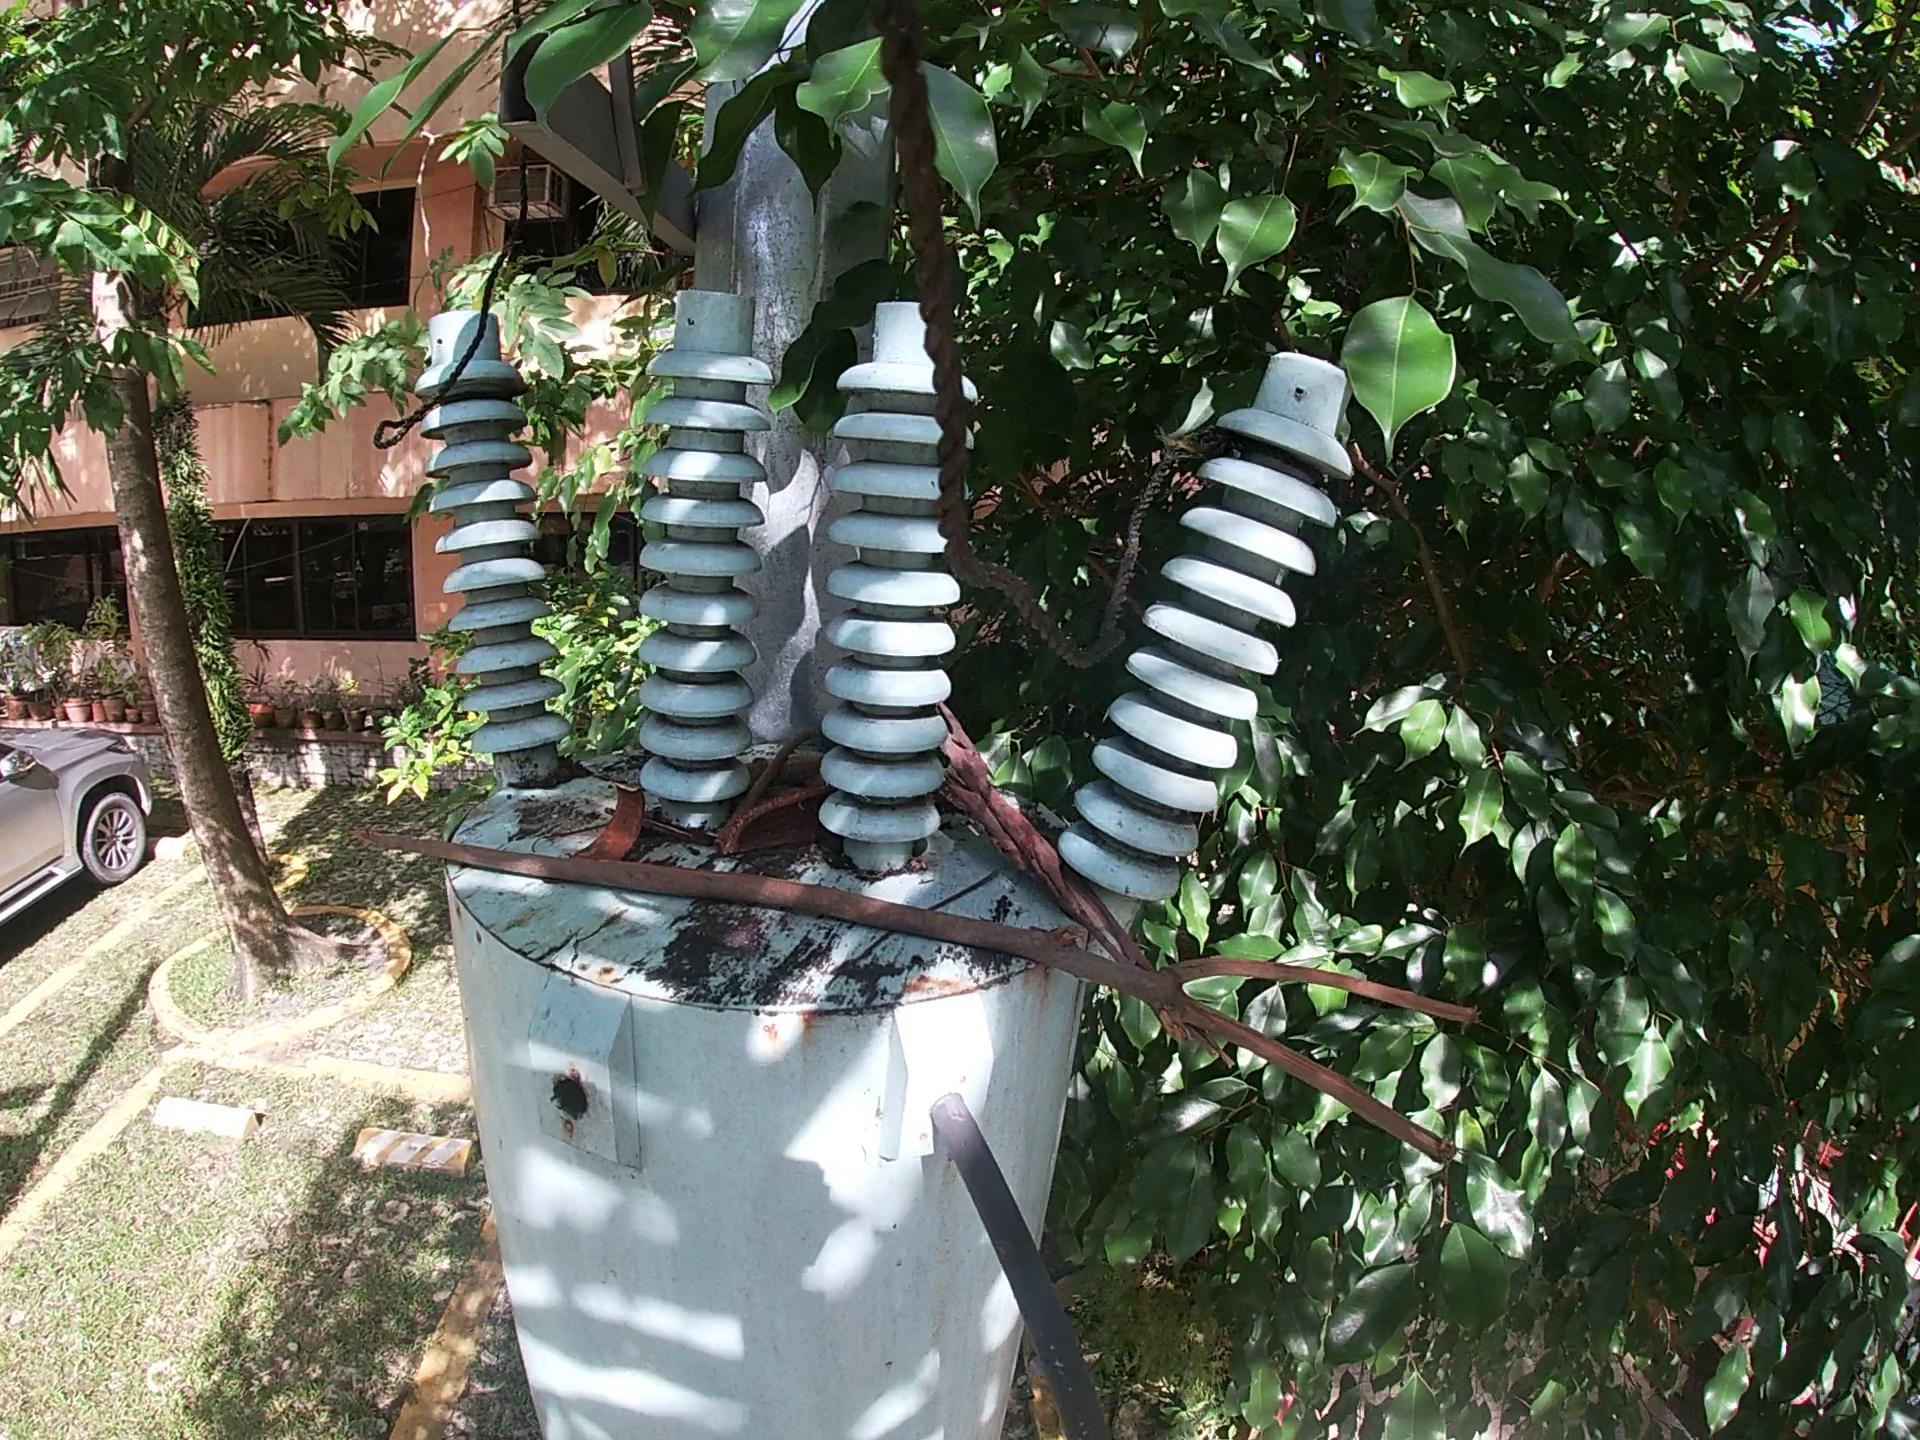mahogany fruit: (714, 784, 835, 865), (571, 782, 655, 864)
tree branch: (346, 818, 1492, 1183), (931, 697, 1228, 1072), (720, 726, 822, 855)
